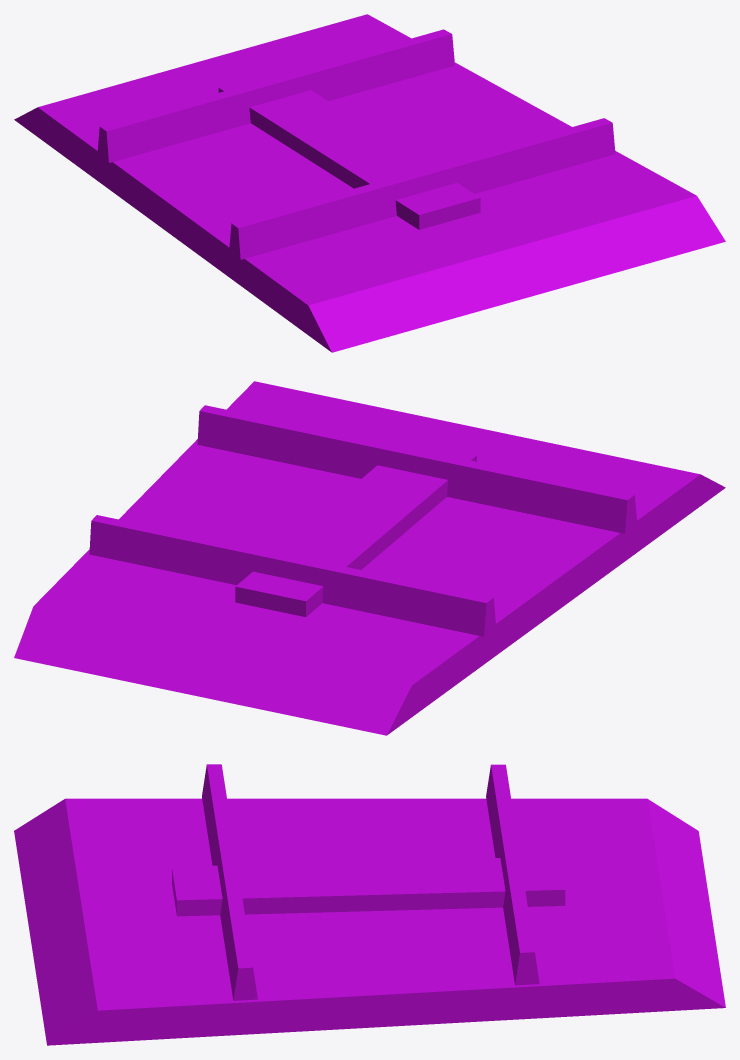
Rendered from Track_Curve_Segment_Edit.FBX.
3 views of the same model, one above another, from view 1: azimuth 30°, elevation 25°; view 2: azimuth 150°, elevation 25°; view 3: azimuth 270°, elevation 25° (orthographic). The views are drawn at different scales.
Parts seen in each view (by area): view 1: Ground, Rail_1, Rail_2, Sleeper; view 2: Ground, Rail_1, Rail_2, Sleeper; view 3: Ground, Sleeper, Rail_1, Rail_2.
Part boxes in pixels (x1,y1,x2,y2): Ground: (14,14,725,352); Rail_1: (229,118,615,259); Rail_2: (97,29,454,162); Sleeper: (218,70,480,229); Ground: (14,381,725,735); Rail_1: (197,405,637,533); Rail_2: (89,515,496,636); Sleeper: (235,440,476,617); Ground: (14,798,725,1045); Sleeper: (172,856,565,916); Rail_1: (202,764,257,1000); Rail_2: (486,764,539,985).
Bounding box in the file's own units: 145 × 200 × 20.
